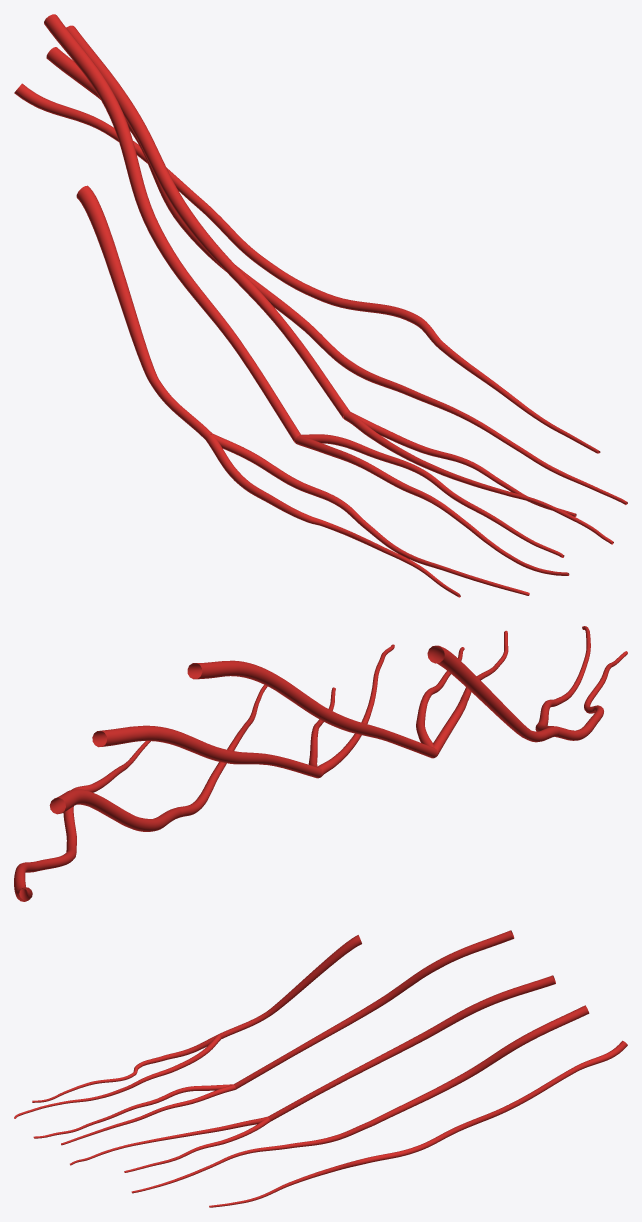
The model's file is circulatorio-dorsal-metatarsal-arteries-l.glb.
The picture shows the model from 3 angles, top to bottom: view 1: azimuth 30°, elevation 25°; view 2: azimuth 150°, elevation 25°; view 3: azimuth 270°, elevation 25°; orthographic projection. The views are drawn at different scales.
Parts seen in each view (by area): view 1: Dorsal digital arteries of foot.l, Dorsal metatarsal arteries.l; view 2: Dorsal metatarsal arteries.l, Dorsal digital arteries of foot.l; view 3: Dorsal digital arteries of foot.l, Dorsal metatarsal arteries.l.
Part boxes in pixels (bbox=[...]): Dorsal digital arteries of foot.l: bbox=[14, 83, 627, 597]; Dorsal metatarsal arteries.l: bbox=[44, 14, 349, 442]; Dorsal metatarsal arteries.l: bbox=[49, 645, 559, 831]; Dorsal digital arteries of foot.l: bbox=[14, 626, 627, 901]; Dorsal digital arteries of foot.l: bbox=[14, 1034, 627, 1207]; Dorsal metatarsal arteries.l: bbox=[218, 930, 589, 1126].
Bounding box in the file's own units: 0.0655 × 0.0506 × 0.1464.
